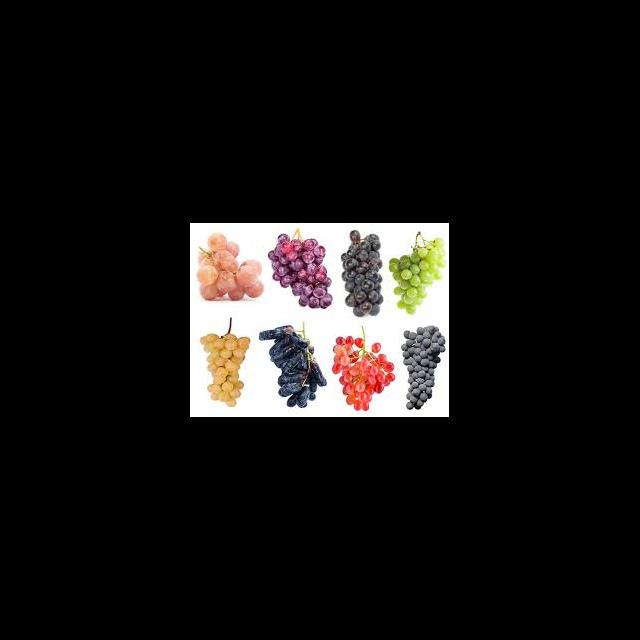grape: (332, 325, 396, 411), (268, 228, 332, 309), (388, 230, 446, 314), (196, 232, 264, 300), (200, 317, 250, 406), (400, 325, 446, 410), (341, 229, 384, 317)
